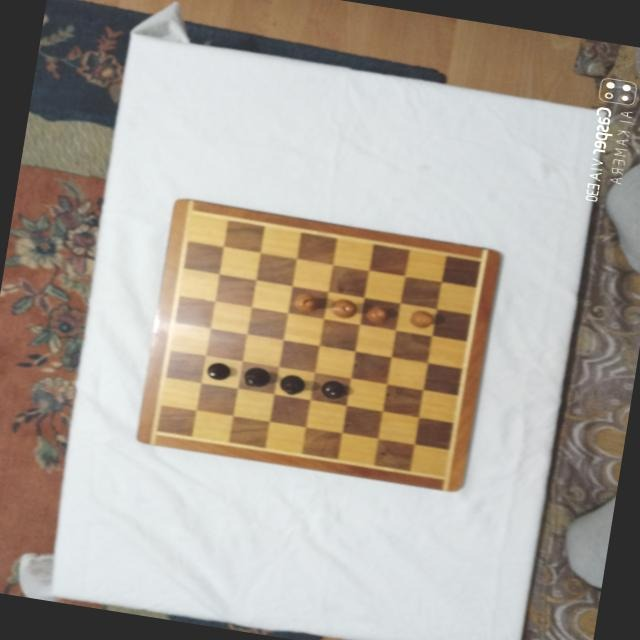black-bishop: (242, 365, 272, 389), (277, 372, 306, 396)
black-pawn: (320, 378, 348, 401), (206, 360, 232, 382)
white-bishop: (328, 296, 359, 319), (293, 291, 321, 313)
white-pawn: (408, 307, 436, 329), (365, 303, 391, 325)
